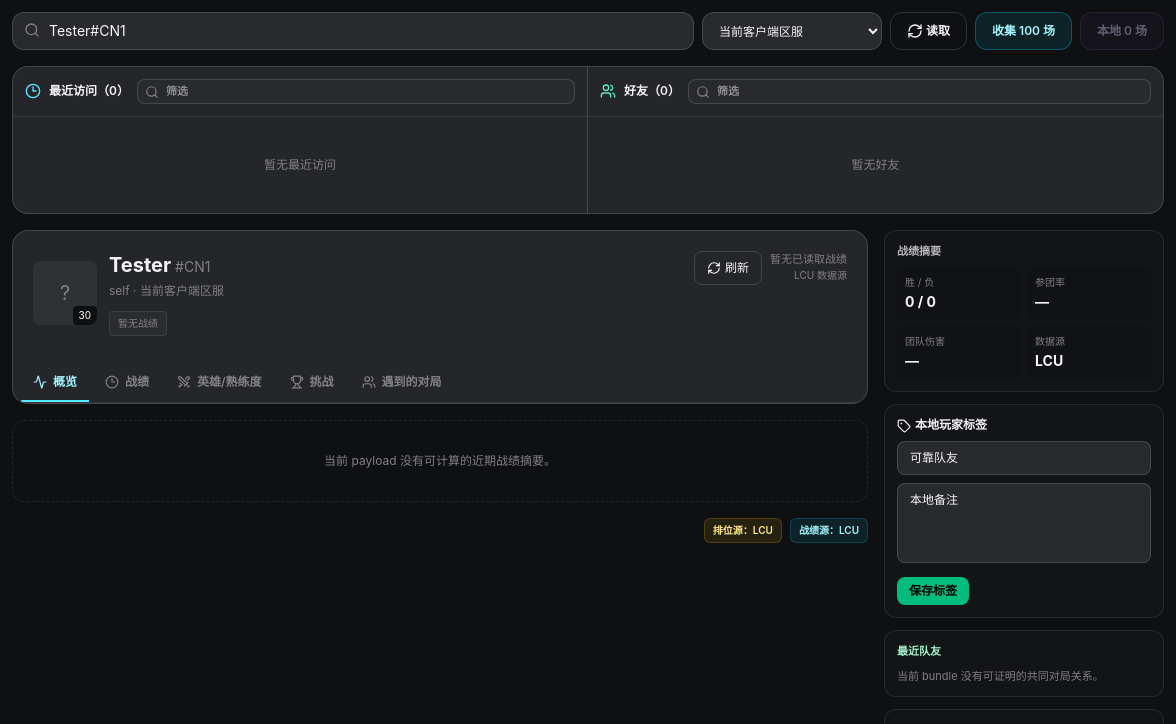
LeaguePlayerCenter › shows explicit empty states instead of inventing mastery, challenge, or encounter data
Expected: the element with test id "player-profile-header" is shown, [12,230,868,404]
Click the tab "英雄/熟练度" at (219, 383), box [165,364,274,402]
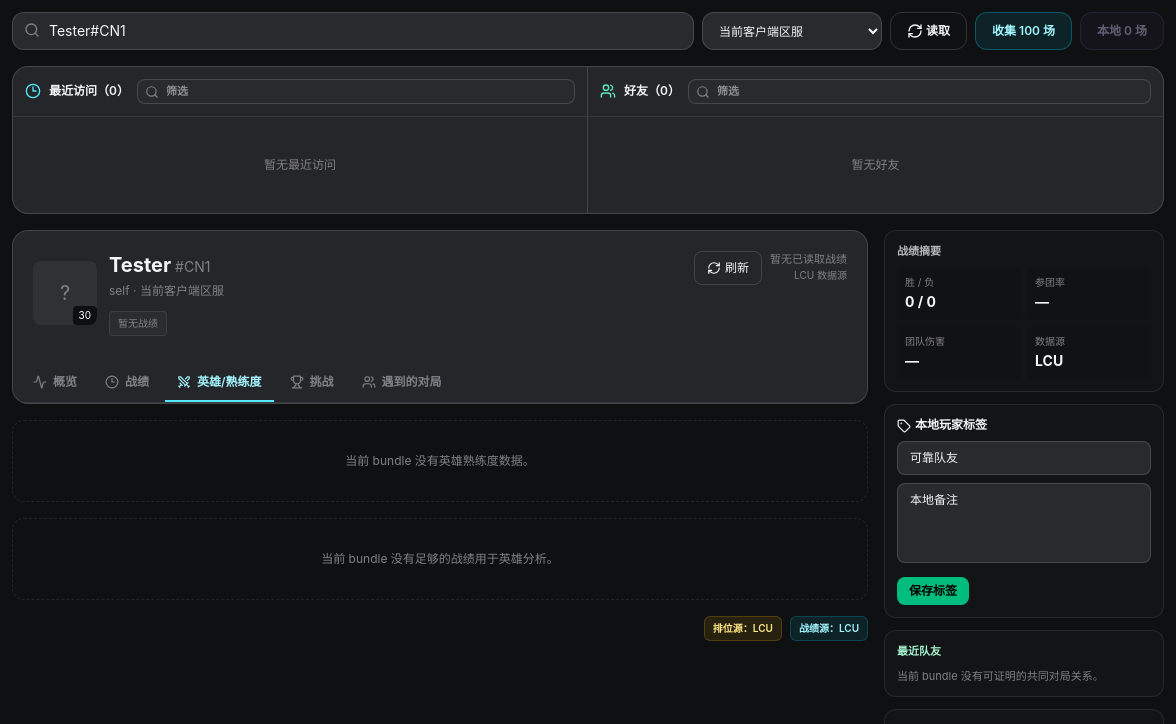
Expected: the text "当前 bundle 没有英雄熟练度数据。" is shown, [12,420,868,502]
Expected: the text "当前 bundle 没有足够的战绩用于英雄分析。" is shown, [12,518,868,600]
Click the tab "挑战" at (312, 383), box [278,364,346,402]
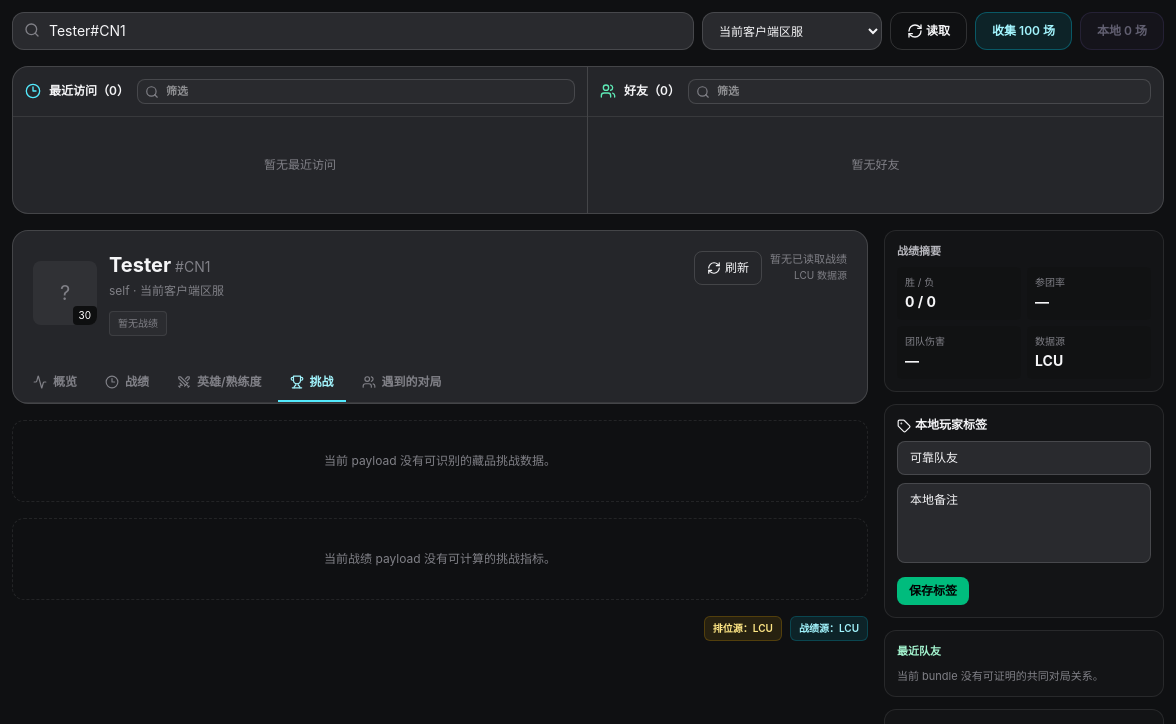
Expected: the text "当前 payload 没有可识别的藏品挑战数据。" is shown, [12,420,868,502]
Expected: the text "当前战绩 payload 没有可计算的挑战指标。" is shown, [12,518,868,600]
Click the tab "遇到的对局" at (402, 383), box [350,364,454,402]
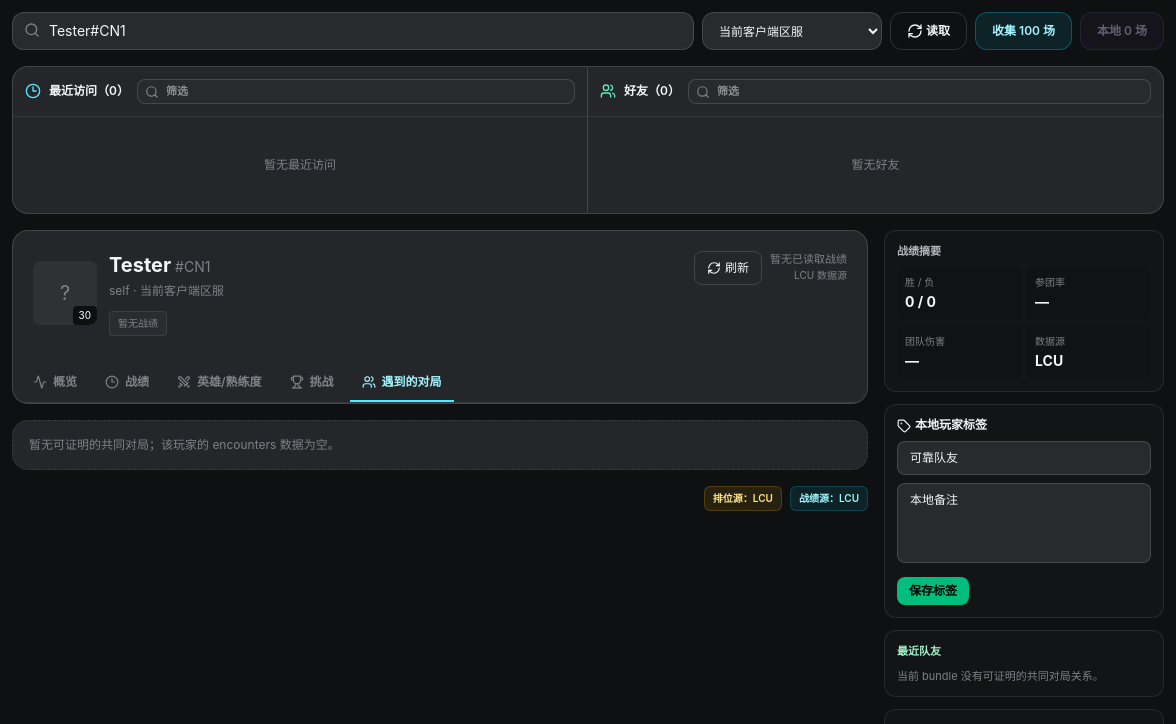
Expected: the text "暂无可证明的共同对局；该玩家的 encounters 数据为空。" is shown, [12,420,868,470]
